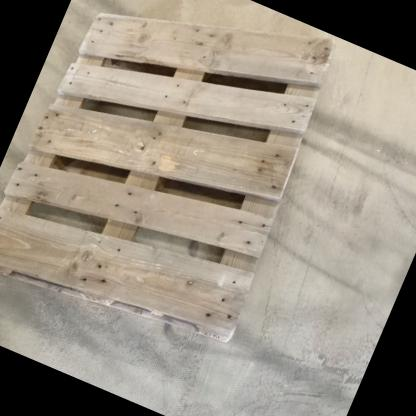BoxFace: (0, 5, 340, 351)
